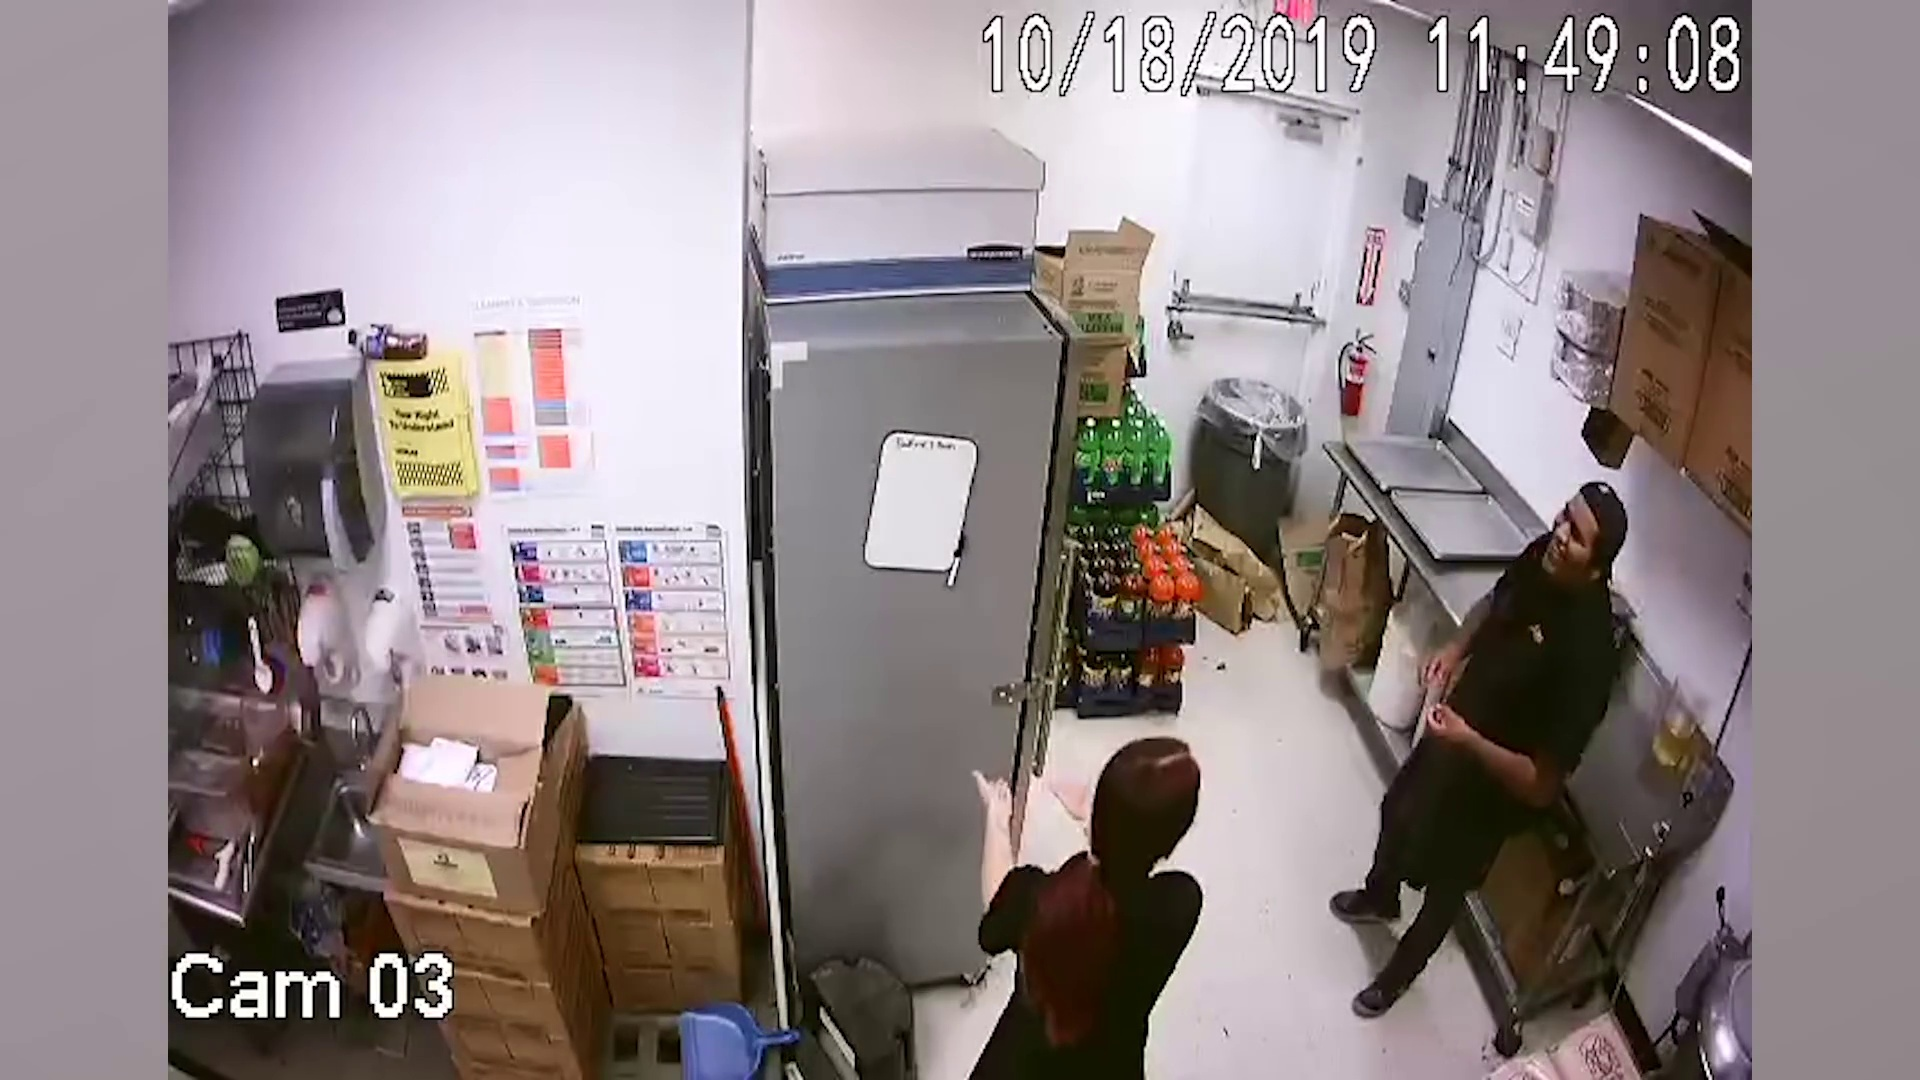face: (1542, 497, 1599, 579)
